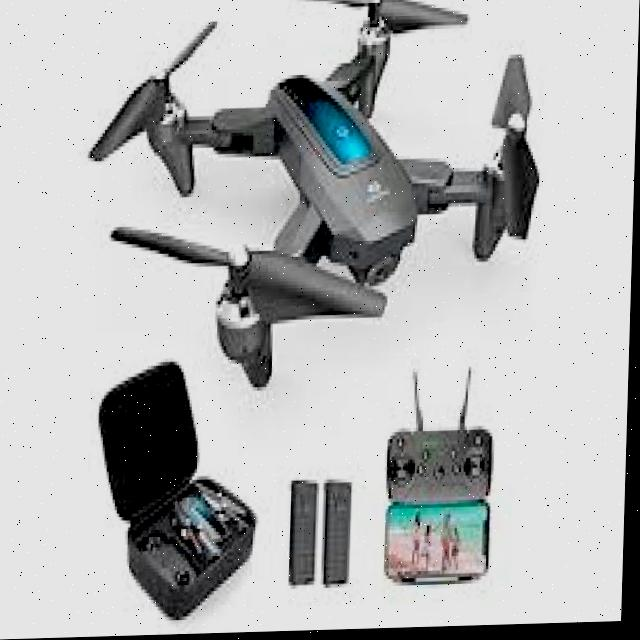drone: (71, 0, 568, 402)
